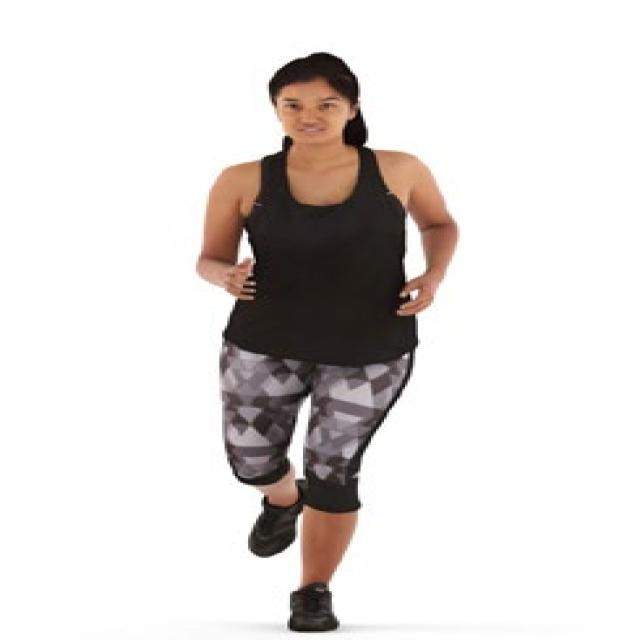running: (193, 51, 459, 640)
